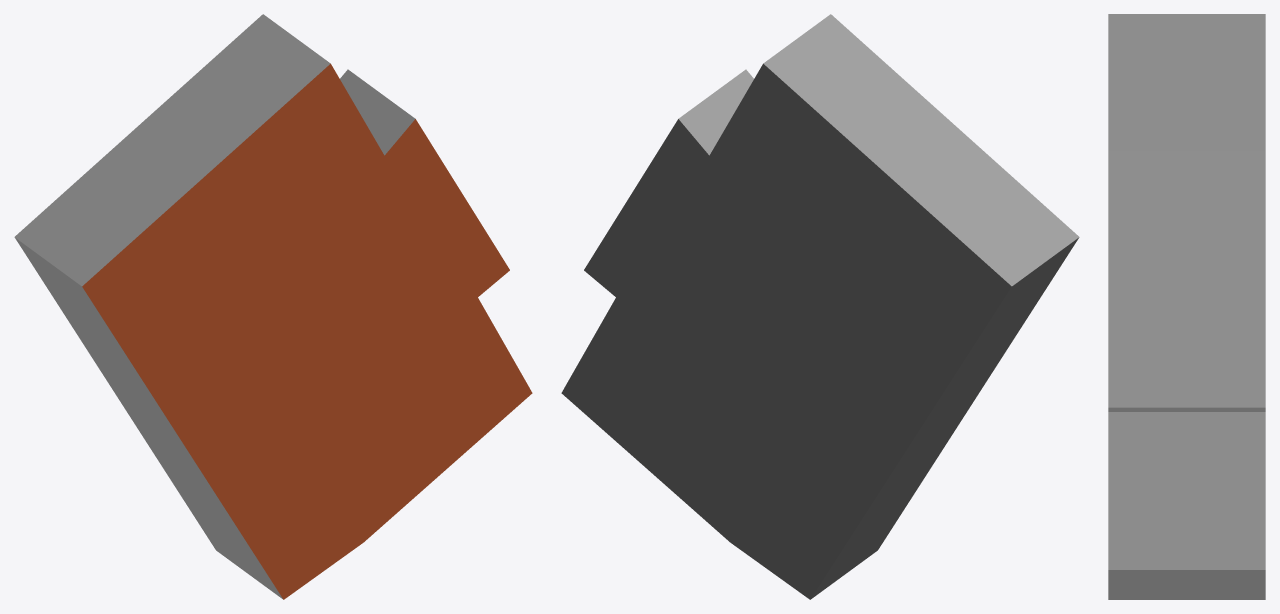
File: construction_7276_assumed_A_Ruinas_h6m.obj
The picture shows the model from 3 angles, left to right: view 1: azimuth 30°, elevation 25°; view 2: azimuth 150°, elevation 25°; view 3: azimuth 270°, elevation 25°; orthographic projection. The views are drawn at different scales.
Visible parts, largest first — view 1: construction_7276_assumed_A_Ruinas; view 2: construction_7276_assumed_A_Ruinas; view 3: construction_7276_assumed_A_Ruinas.
Boxes of the visible parts, x1,y1,x2,y2 form: construction_7276_assumed_A_Ruinas: (14, 14, 532, 599); construction_7276_assumed_A_Ruinas: (561, 14, 1079, 599); construction_7276_assumed_A_Ruinas: (1108, 14, 1265, 599).
Size of the model in its own units: 23.06 by 25.68 by 6.
